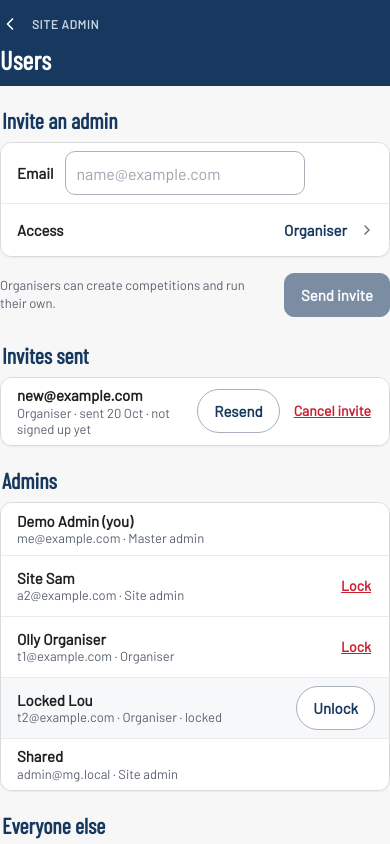
Test: UsersPage › shows why an invite could not be sent
The image size is (390, 844).
Type "ann@example.com" into the field with placeholder "name@example.com" at [185, 174], box [65,152,305,196]
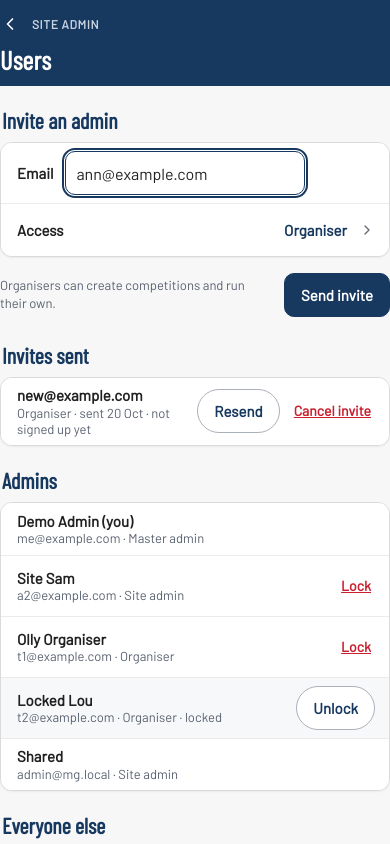
Click the button "Send invite" at [337, 295], box [284,273,389,317]
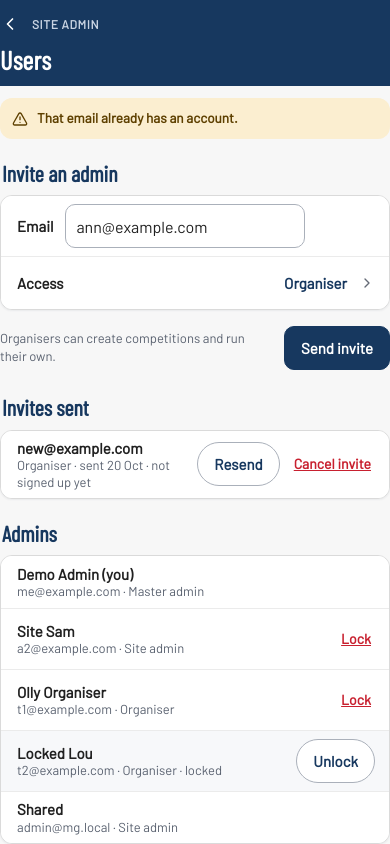
Result: the message reads "That email already has an account." at [37,109,238,126]
